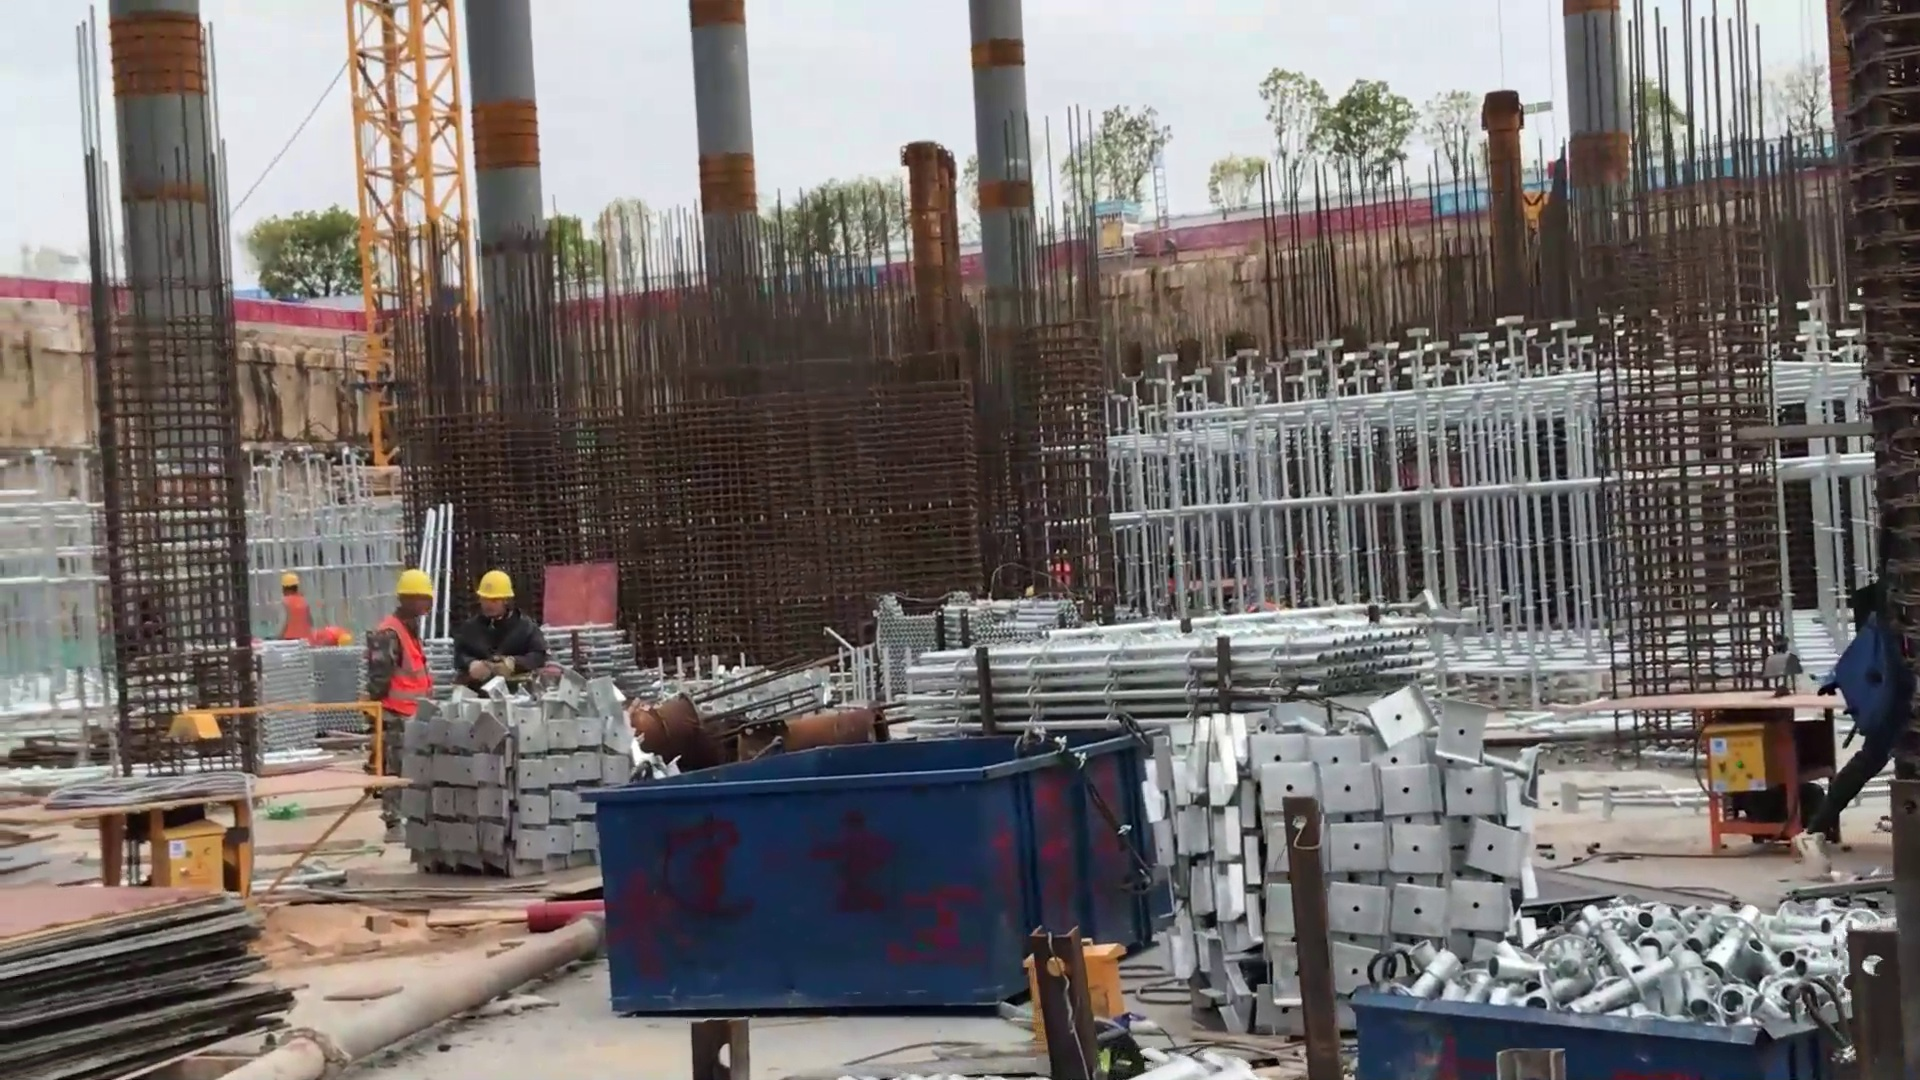board: (8, 861, 343, 1080)
ebox: (84, 759, 280, 920), (1688, 680, 1813, 829)
fence: (243, 268, 358, 361), (1171, 203, 1288, 275), (3, 240, 91, 326)
helmet: (390, 568, 433, 604), (477, 570, 517, 601), (277, 565, 306, 597)
hopper: (578, 701, 1191, 1046), (1345, 846, 1882, 1080)
person: (365, 558, 442, 792), (461, 560, 550, 685), (275, 568, 311, 649)
scaffold: (933, 600, 1453, 716)
vest: (370, 613, 431, 712), (282, 599, 318, 640)
